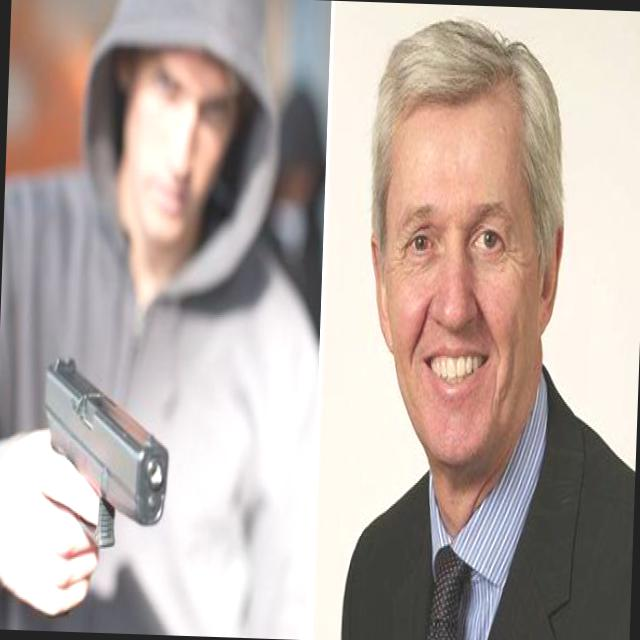handgun: (34, 352, 173, 550)
